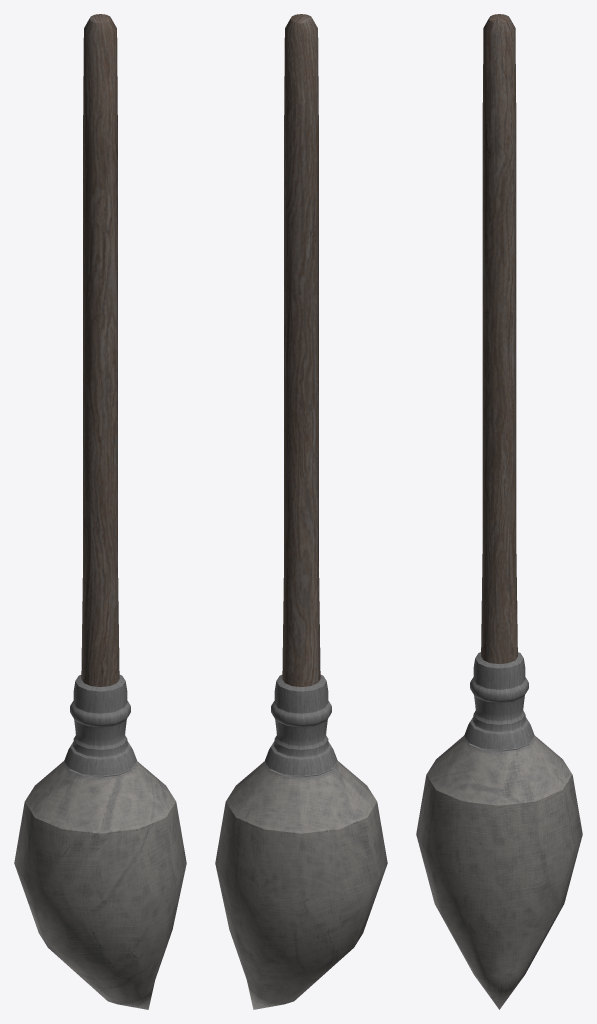
File: Collectible_Mop.fbx
The picture shows the model from 3 angles, left to right: view 1: azimuth 30°, elevation 25°; view 2: azimuth 150°, elevation 25°; view 3: azimuth 270°, elevation 25°; orthographic projection. The views are drawn at different scales.
Parts seen in each view (by area): view 1: Cylinder.001; view 2: Cylinder.001; view 3: Cylinder.001.
Part boxes in pixels (<box>): Cylinder.001: <box>14,14,186,1009</box>; Cylinder.001: <box>215,14,387,1009</box>; Cylinder.001: <box>416,14,582,1009</box>.
Bounding box in the file's own units: 75.03 × 483 × 75.03.
1 material, 1 textured.
